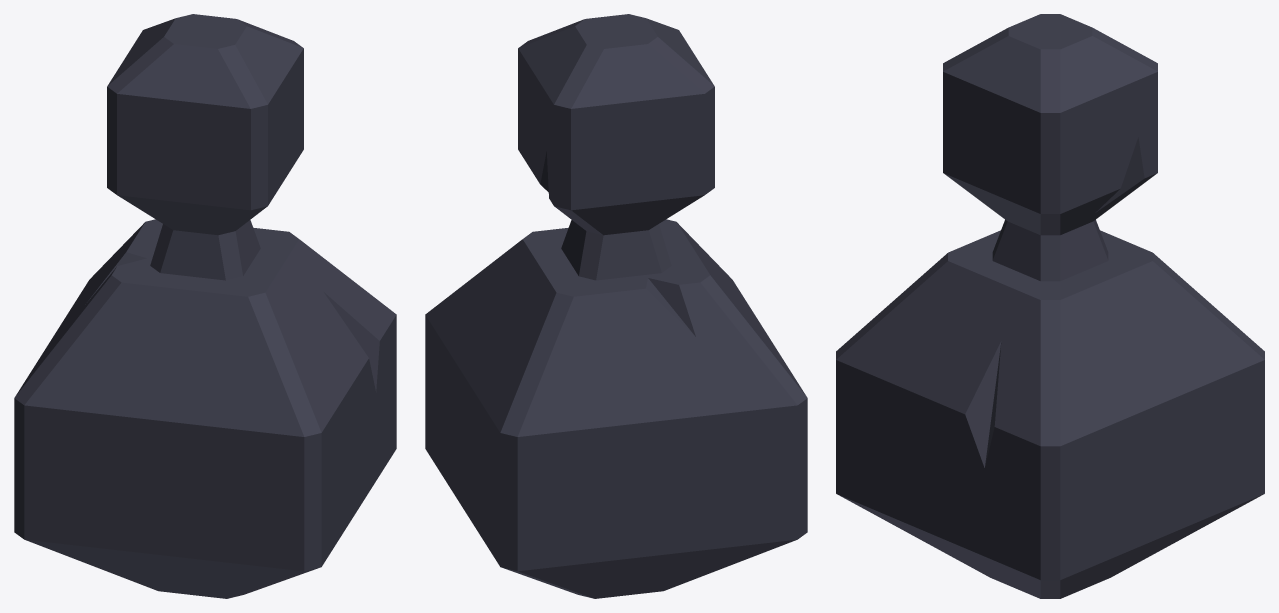
File: Railing_Column_01.fbx
3 renders of one model, left to right at view 1: azimuth 30°, elevation 25°; view 2: azimuth 150°, elevation 25°; view 3: azimuth 270°, elevation 25°, orthographic.
Parts seen in each view (by area): view 1: 1-Railing_Column; view 2: 1-Railing_Column; view 3: 1-Railing_Column.
Boxes of the visible parts, x1,y1,x2,y2 form: 1-Railing_Column: (14,14,396,598); 1-Railing_Column: (425,14,807,598); 1-Railing_Column: (836,14,1264,598).
Bounding box in the file's own units: 1.37 × 1.37 × 1.92.
